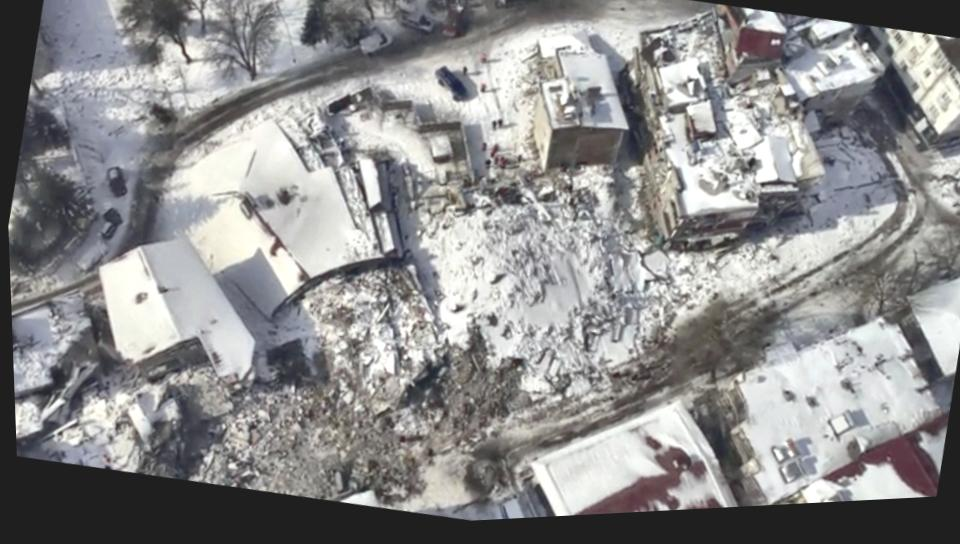kapali: (193, 303, 720, 504)
